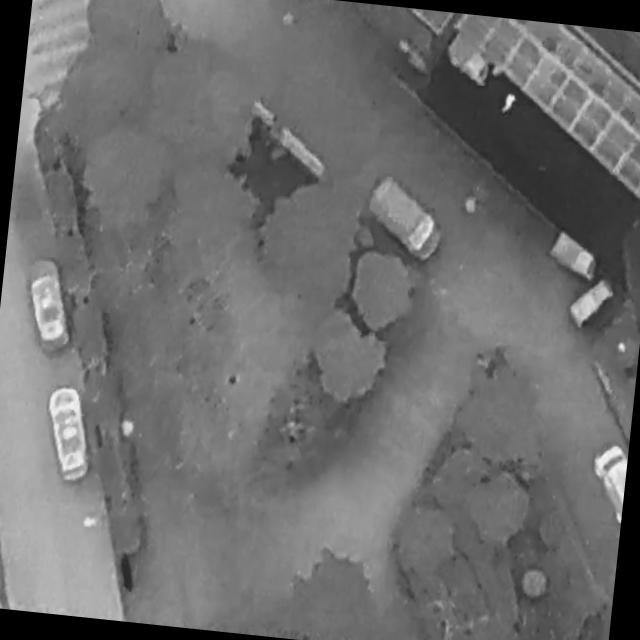person: (505, 91, 518, 117)
